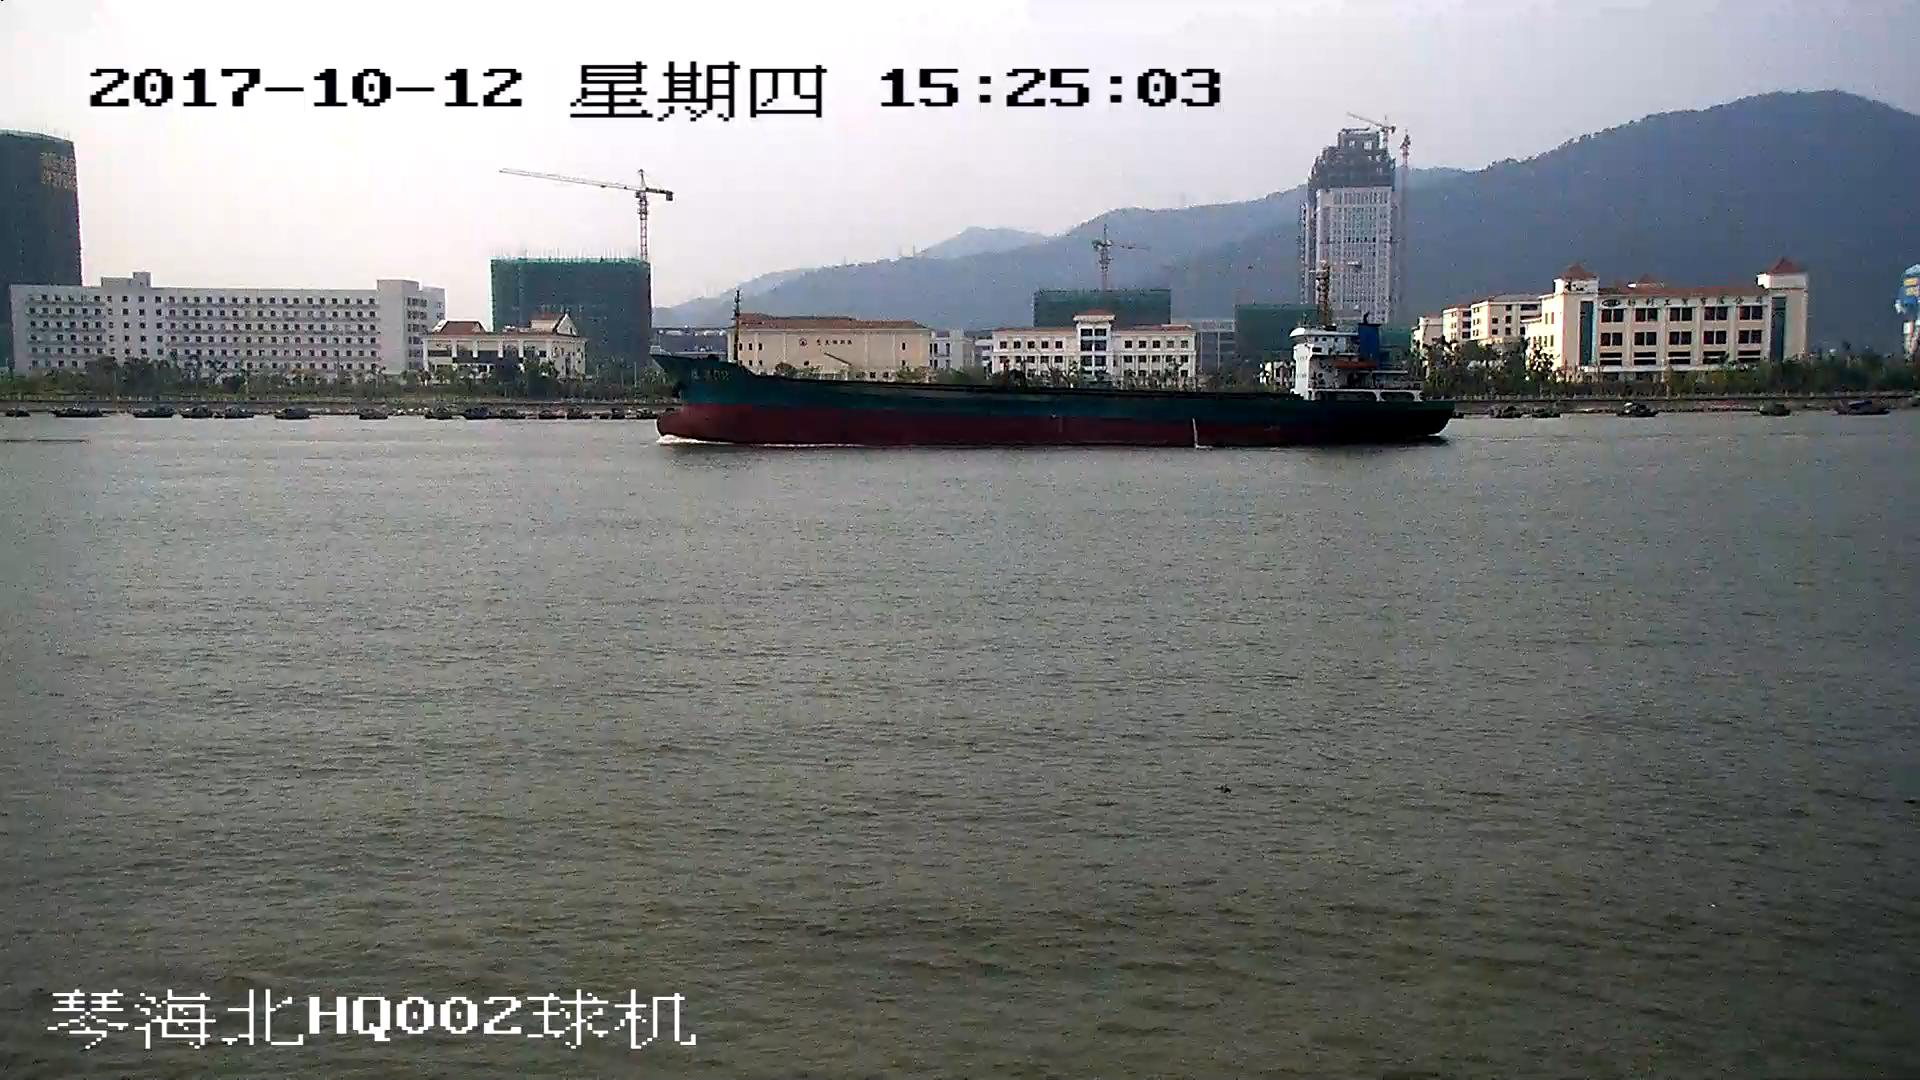general cargo ship: (653, 307, 1453, 450)
